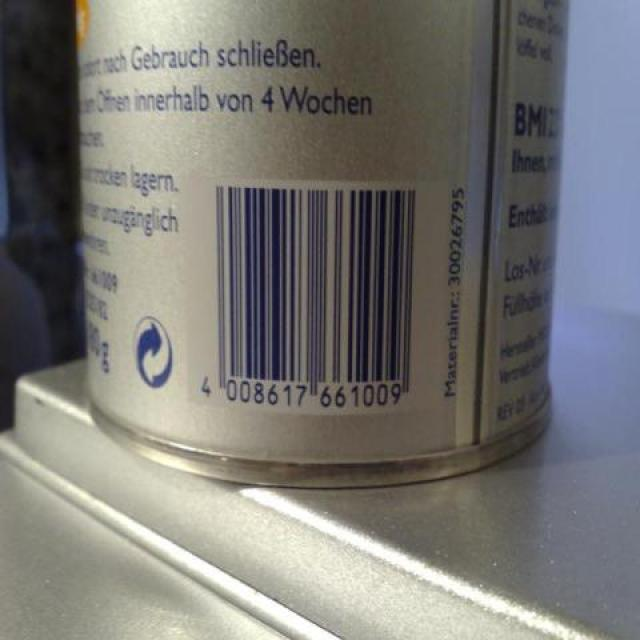Barcode: (190, 172, 429, 419)
